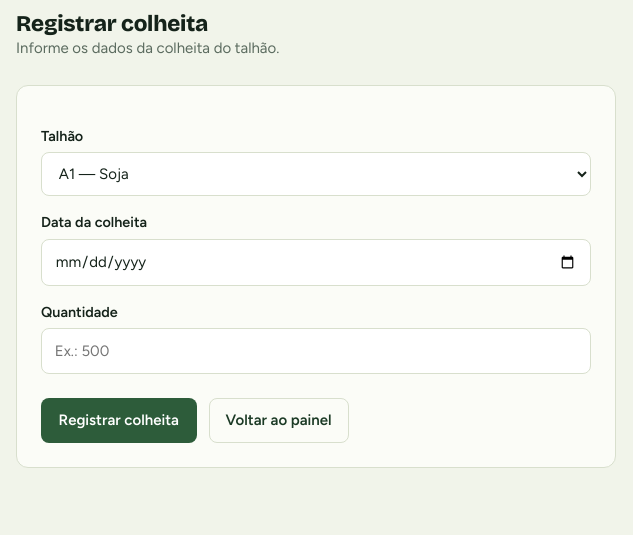
Test: RegistrarColheita - UI03 › impede o envio com data e quantidade vazias
The width and height of the screenshot is (633, 535).
Check: the dropdown labelled "Talhão" is shown, box [41,152,591,196]
Step 1. Click the button "Registrar colheita" → (119, 420), box [41,398,196,443]
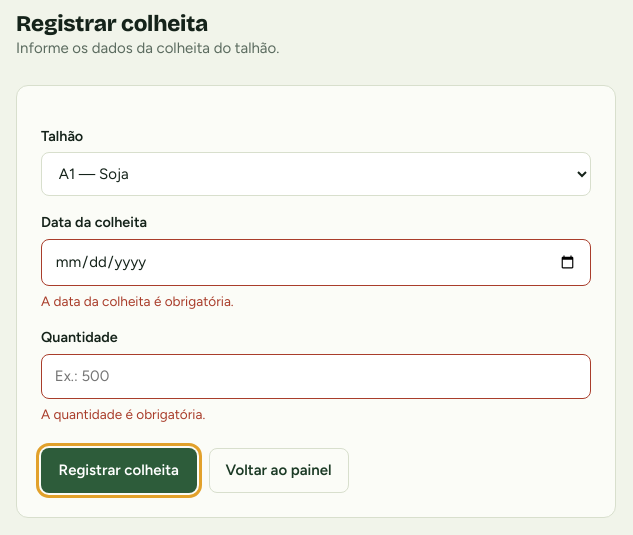
Check: the text "A data da colheita é obrigatória." is shown, box [41,293,234,309]
Check: the text "A quantidade é obrigatória." is shown, box [41,406,205,422]
